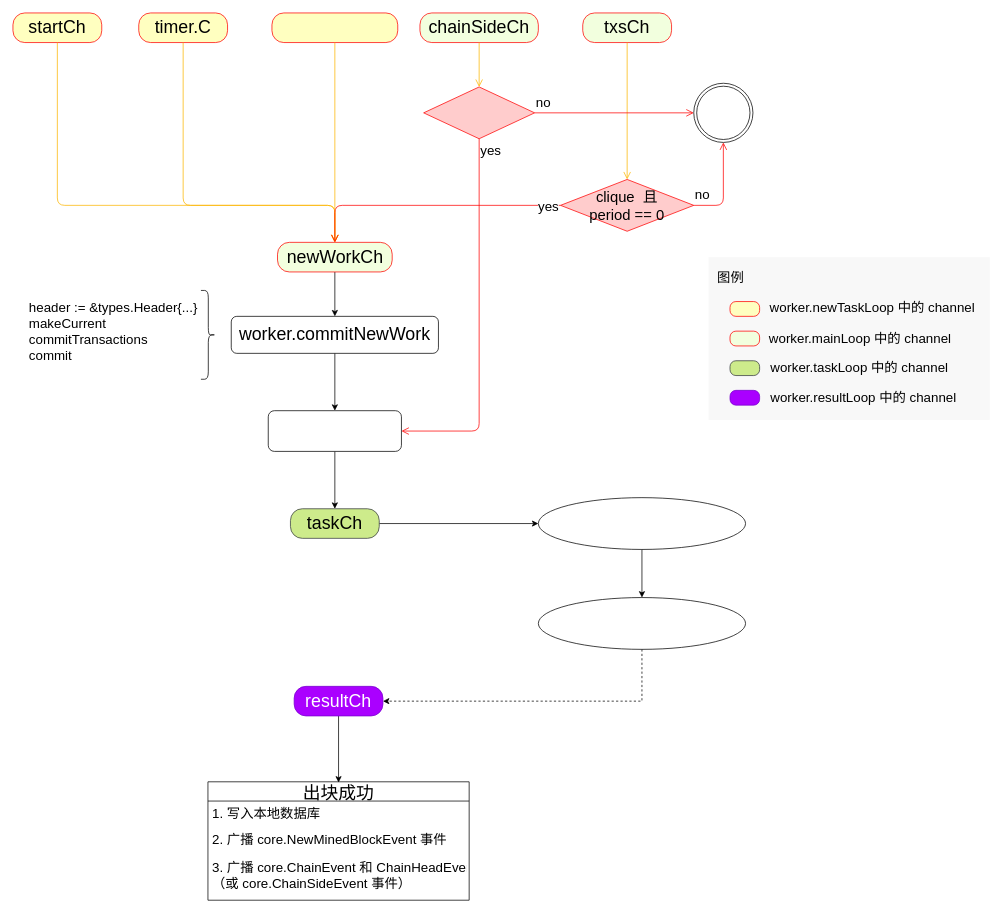
This 1003x915 diagram has some shape labels left out. Here are the shapes that lost their labels. From the top down, the centre of each, then its label:
At point 334,27: "chainHeadCh".
At point 479,112: "current != nil".
At point 723,112: "continue".
At point 334,430: "worker.commit".
At point 642,523: "interrupt previous task".
At point 642,623: "engine.Seal".
